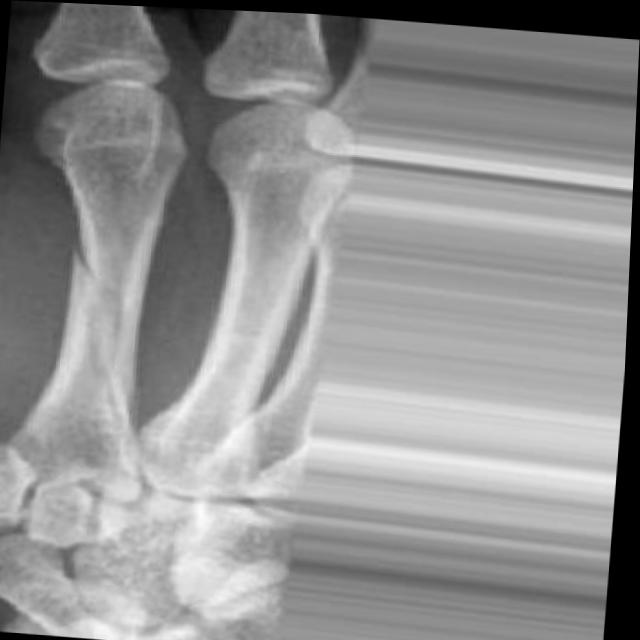fracture: (55, 233, 167, 335)
